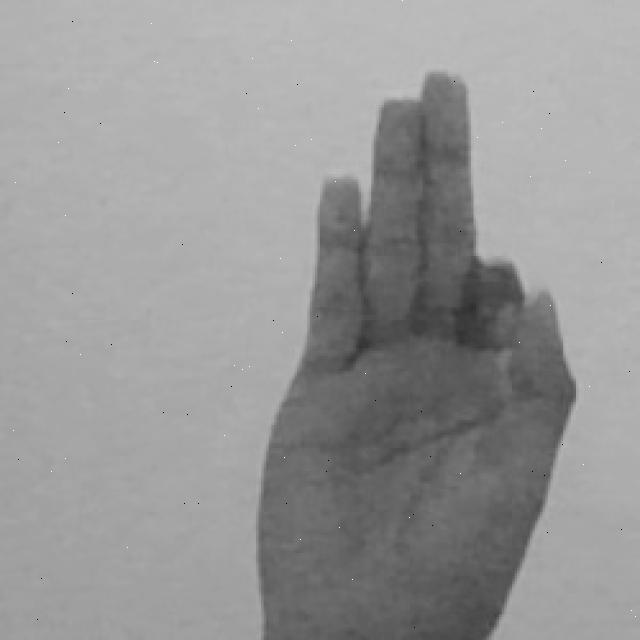F: (248, 64, 581, 640)
